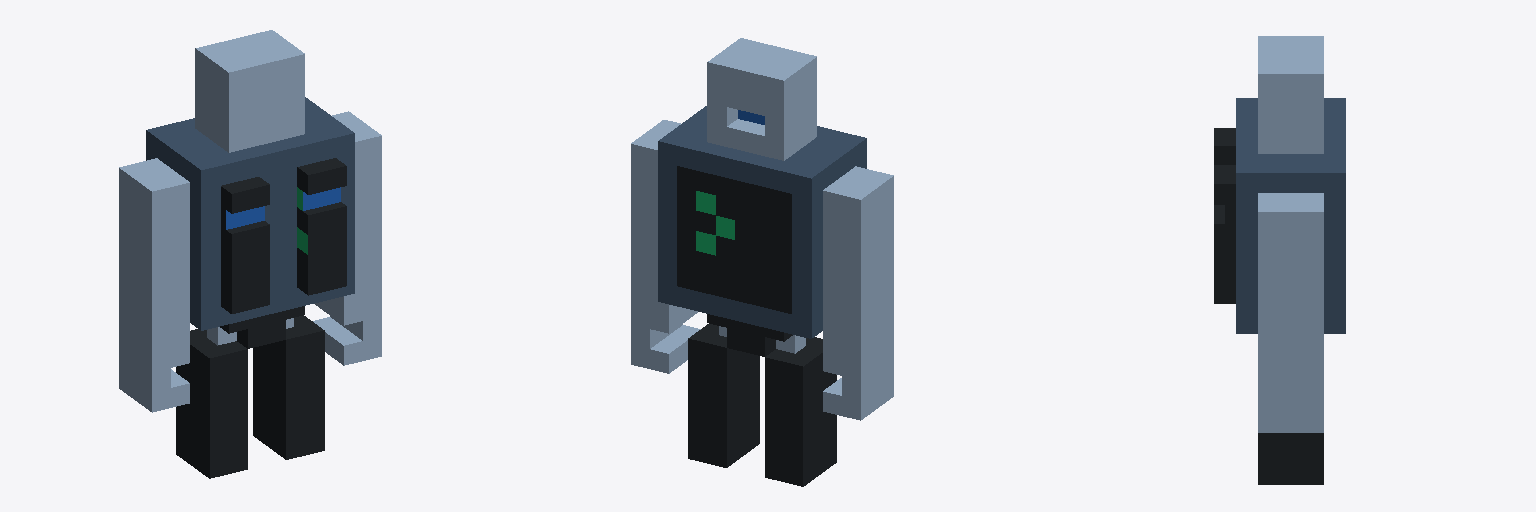
The model's file is gawain.obj.
3 views of the same model, side by side, from view 1: azimuth 30°, elevation 25°; view 2: azimuth 150°, elevation 25°; view 3: azimuth 270°, elevation 25° (orthographic).
Size of the model in its own units: 12 by 20 by 6.